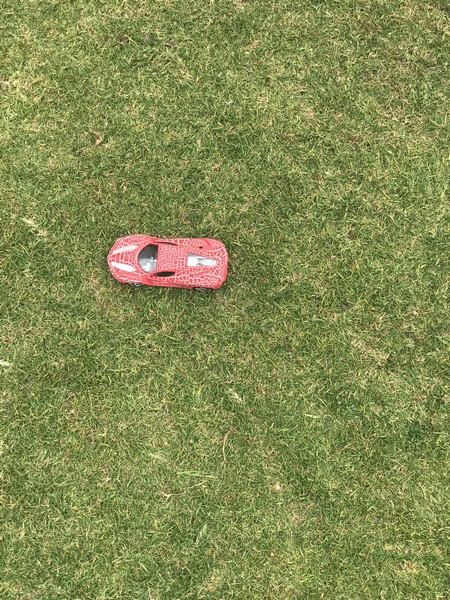RC: (105, 234, 230, 293)
